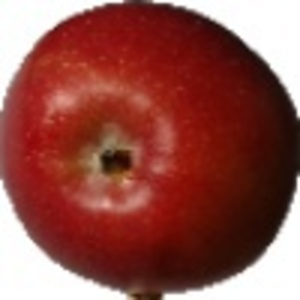maçã braeburn: (1, 1, 298, 294)
